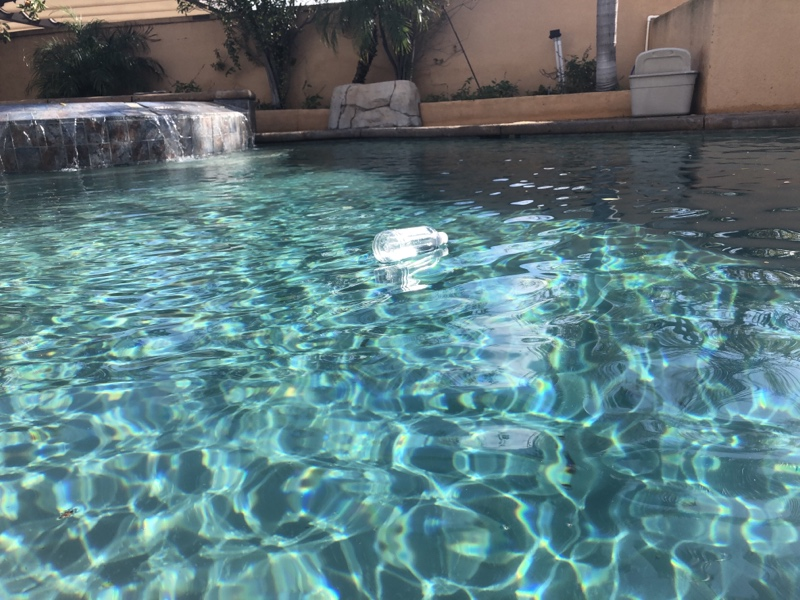Plastic Bottle: (368, 224, 454, 268)
